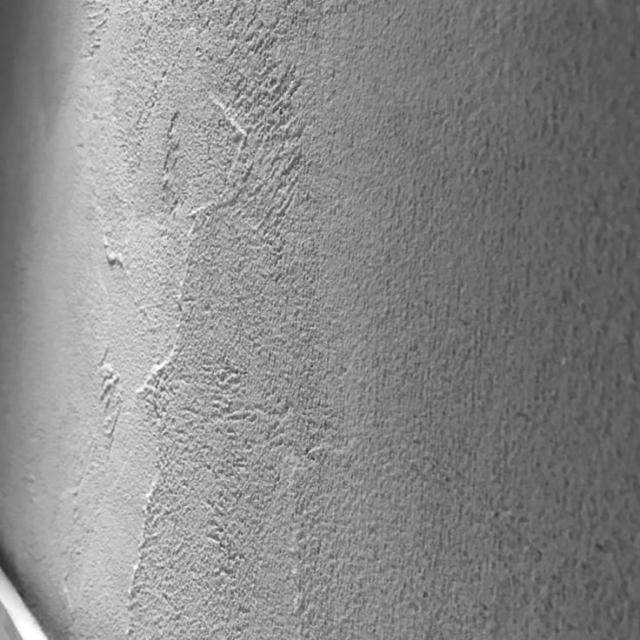trowels marks: (52, 0, 334, 640)
